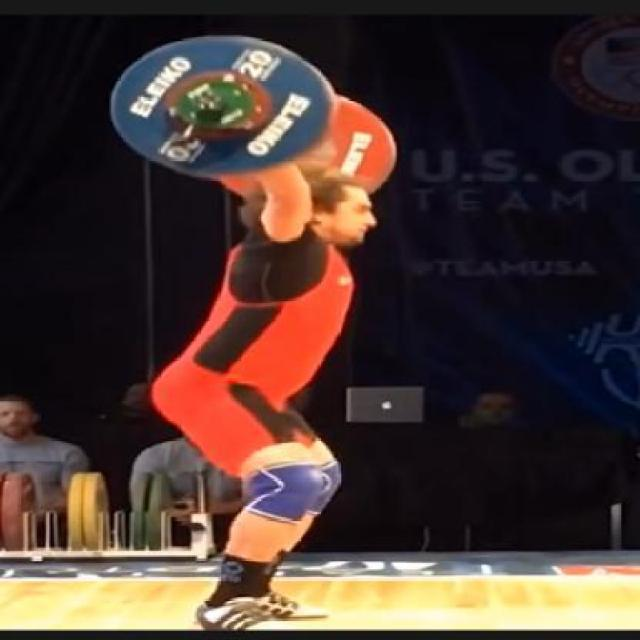barbell: (108, 31, 337, 180)
